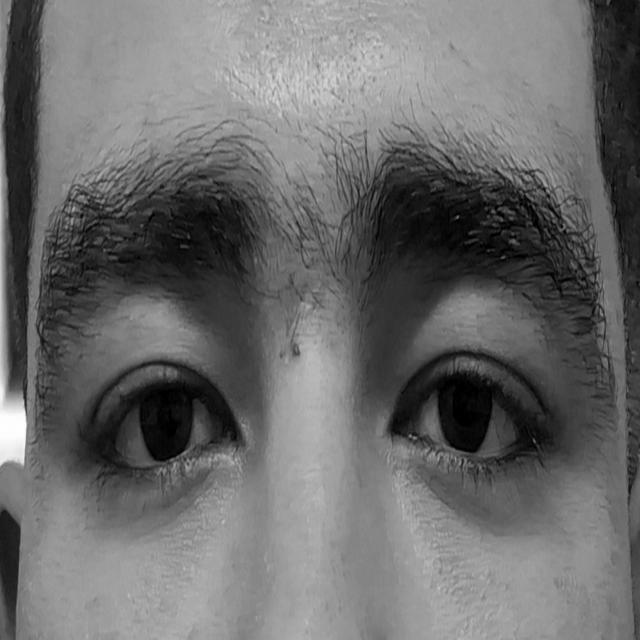real: (44, 158, 610, 592)
